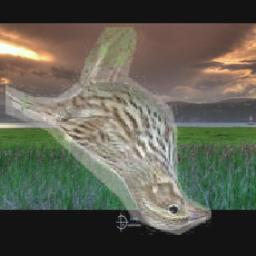Sparrow: (7, 27, 213, 235)
